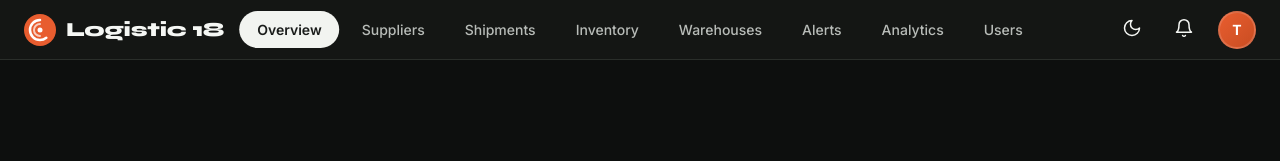
Test: TopNav Component › should show user menu when avatar is clicked
Click the button named "user menu".
click(1237, 30)  # box [1218,10,1256,48]
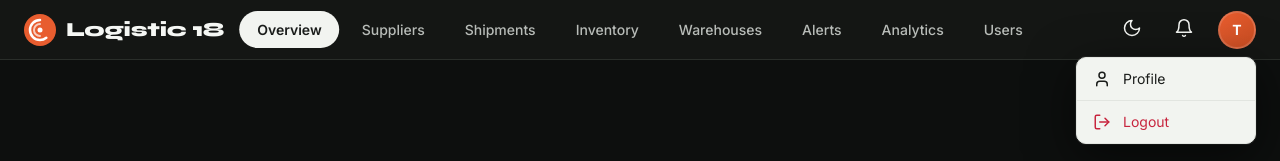
Result: the button "Profile" is shown at [1077,58,1255,100]
Result: the button "Logout" is shown at [1077,100,1255,142]
